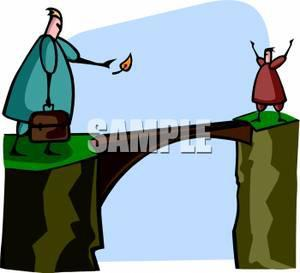person: (3, 5, 99, 155), (241, 34, 289, 123)
